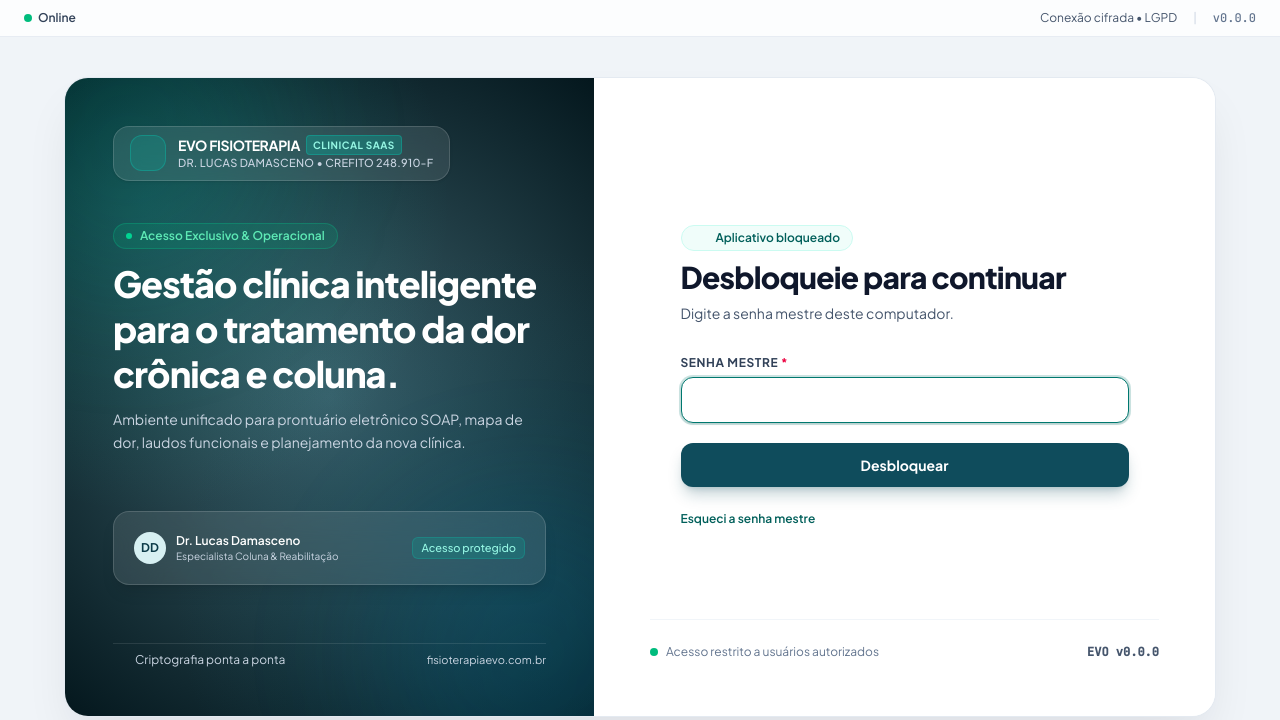
Test: DesbloqueioTela › SENHA_MESTRE_INCORRETA mostra a mensagem no campo, limpa a senha e devolve o foco
Type "errada" into the password field labelled "Senha mestre *" at {"x": 904, "y": 400}, box [680, 376, 1128, 422]
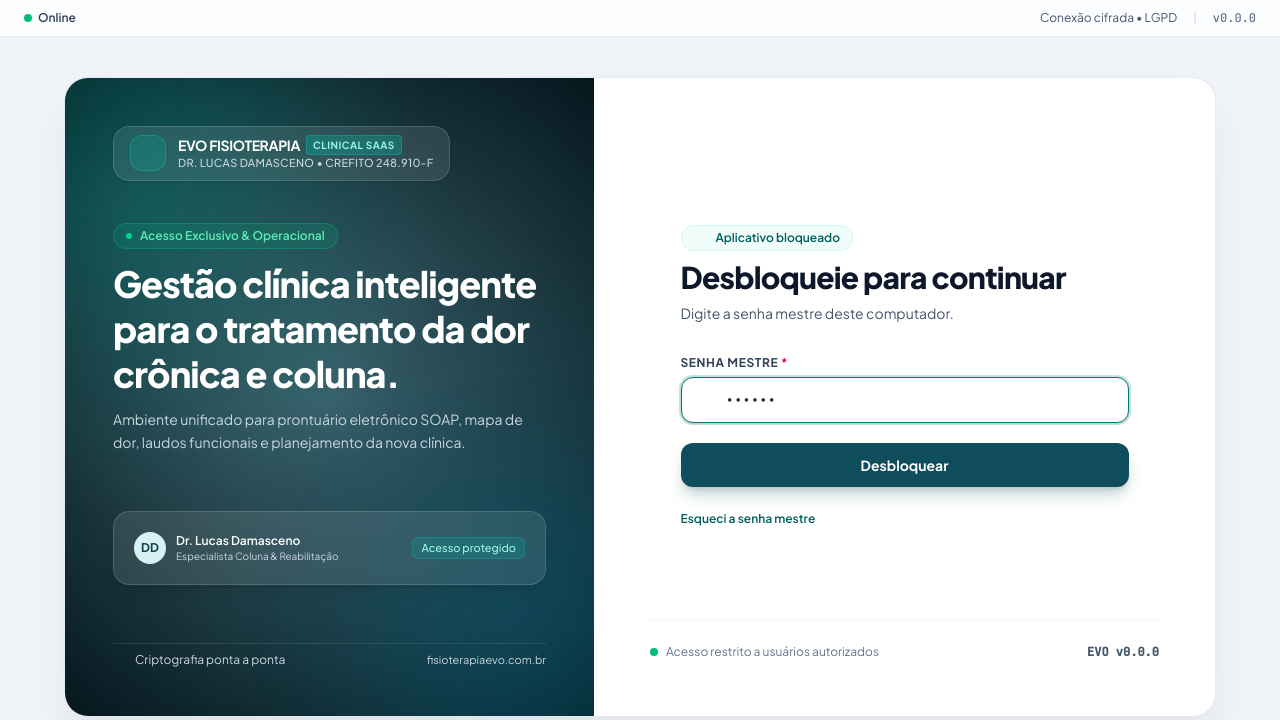
Click the button "Desbloquear" at {"x": 904, "y": 464}, box [680, 442, 1128, 486]
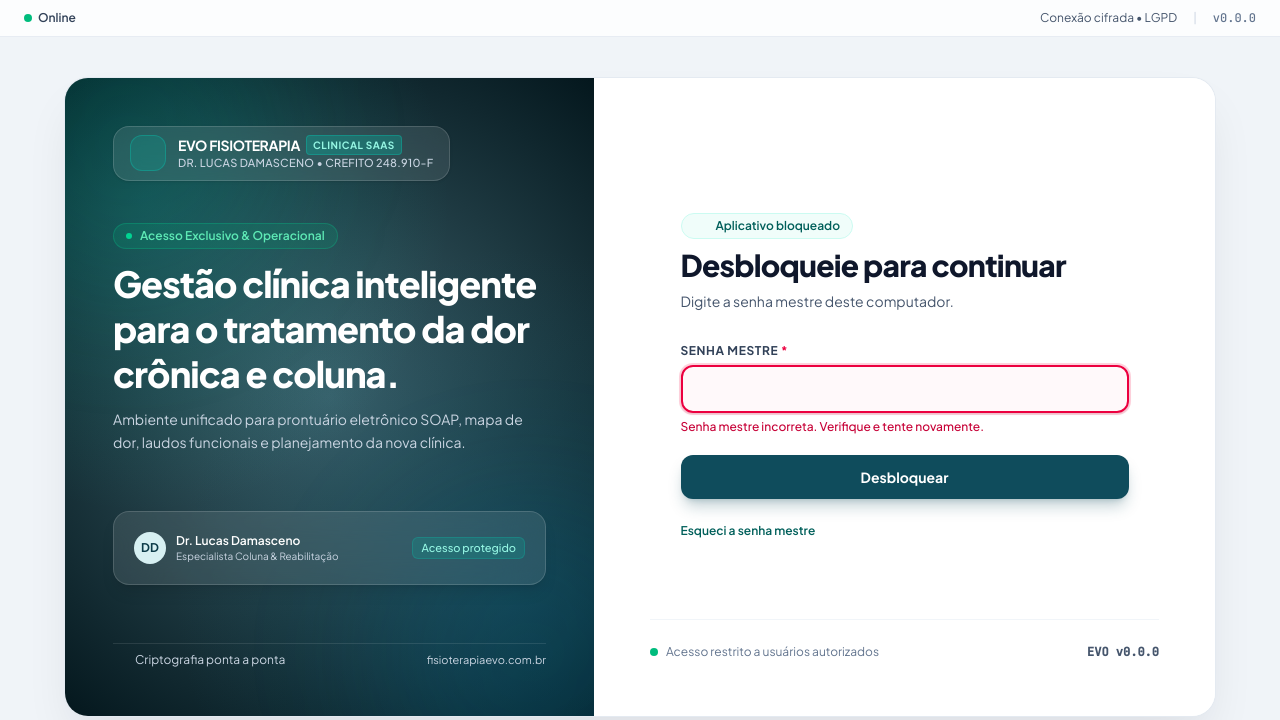
Expected: the text "Senha mestre incorreta. Verifique e tente novamente." is shown, [680, 418, 984, 434]
Expected: the password field labelled "Senha mestre *" is empty, [680, 364, 1128, 412]
